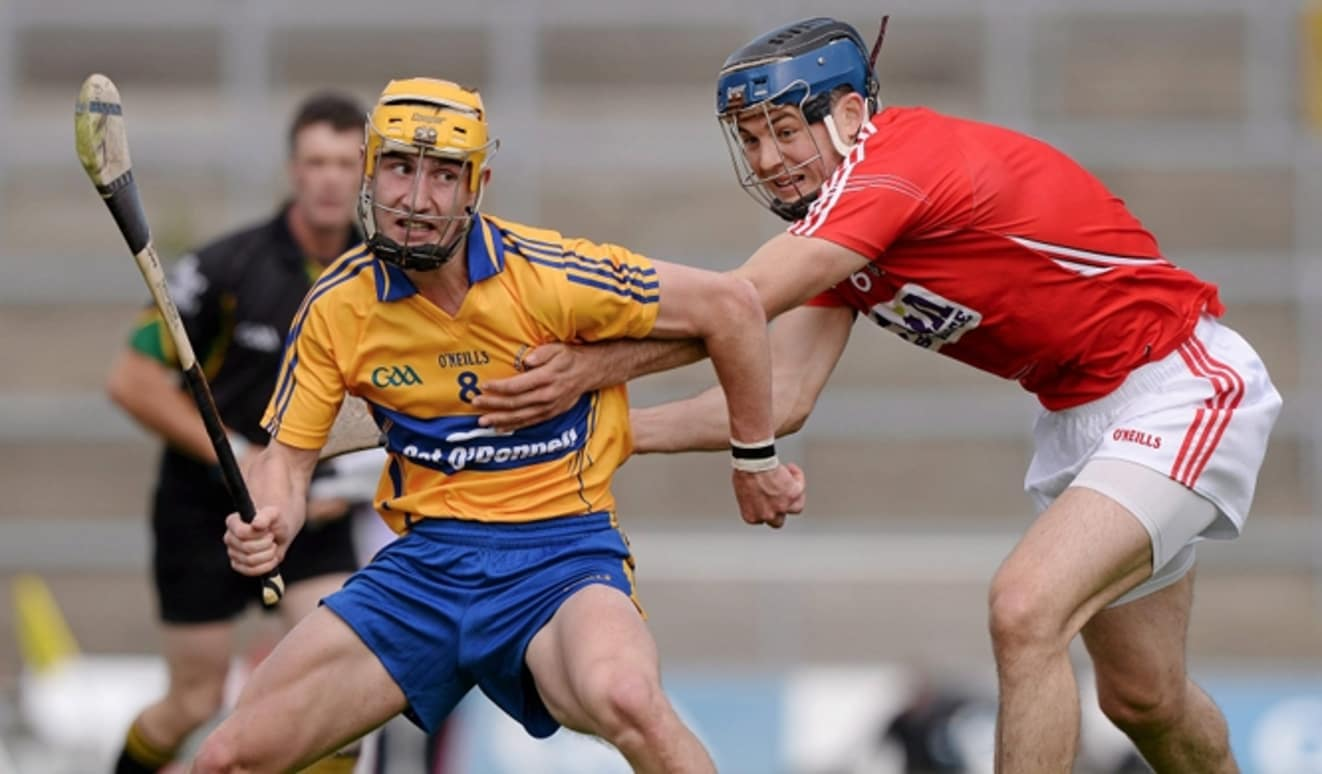hurley: (68, 58, 292, 606)
